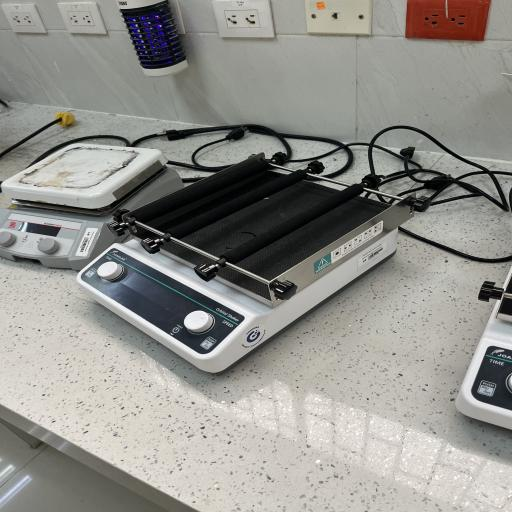Agitador_Orbital_DLAB: (59, 149, 432, 382)
